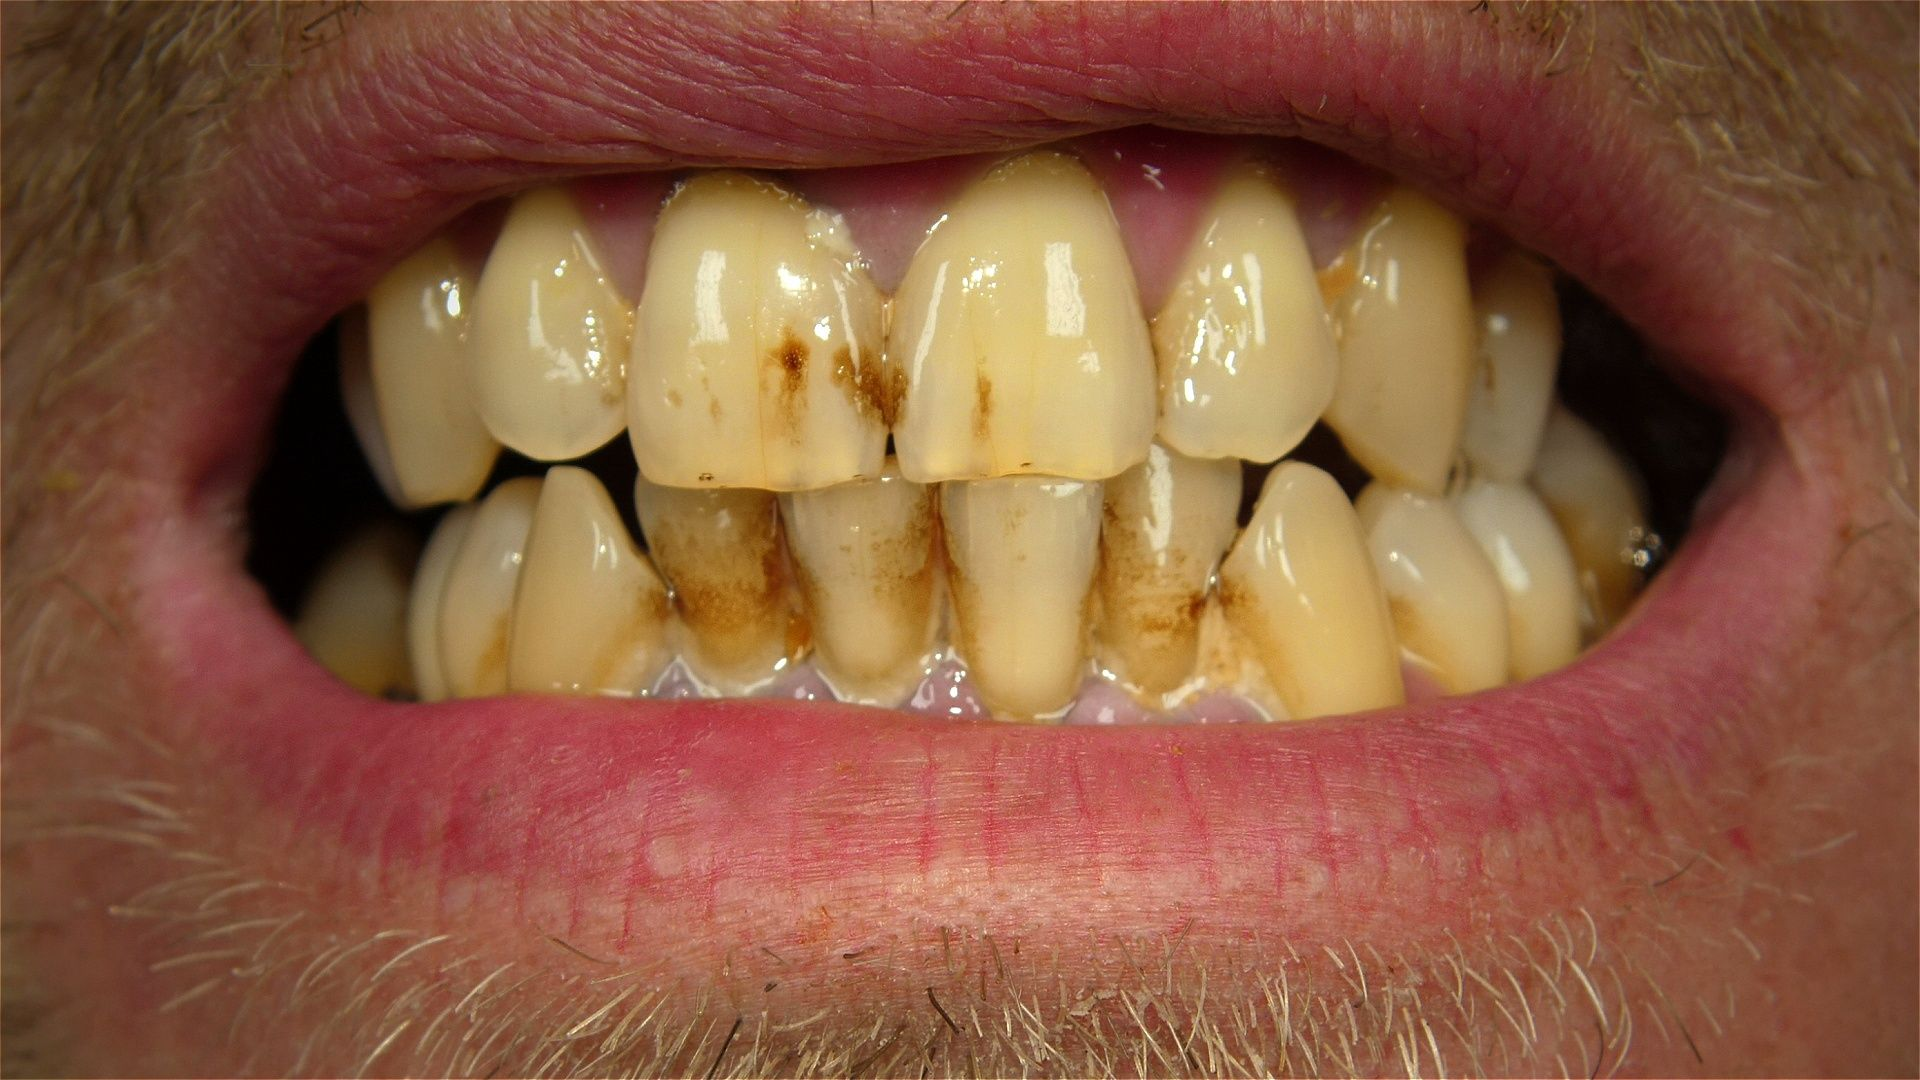LL1BC_healthy: (1349, 479, 1513, 690)
LL2BC_healthy: (1480, 479, 1609, 655)
LLCI_healthy: (938, 467, 1095, 721)
LLC_healthy: (1238, 465, 1403, 711)
LLLI_decay: (1101, 454, 1240, 705)
LRCI_decay: (781, 477, 951, 709)
LRC_decay: (516, 469, 671, 694)
LRLI_decay: (636, 484, 811, 692)
UL1BC_healthy: (1474, 262, 1565, 477)
ULCI_decay: (890, 154, 1159, 495)
ULC_healthy: (1324, 200, 1476, 492)
ULLI_healthy: (1151, 173, 1342, 459)
URCI_decay: (617, 179, 901, 506)
URC_healthy: (342, 262, 501, 498)
URLI_healthy: (462, 196, 634, 459)
